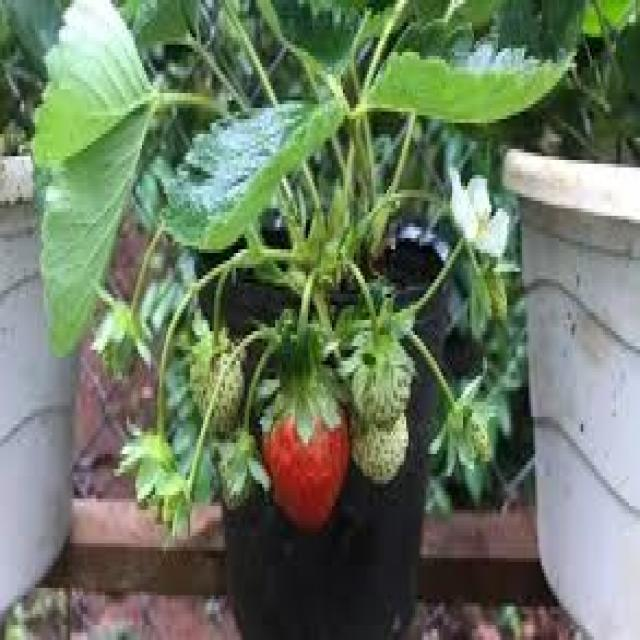Fruta sana: (261, 377, 350, 528)
